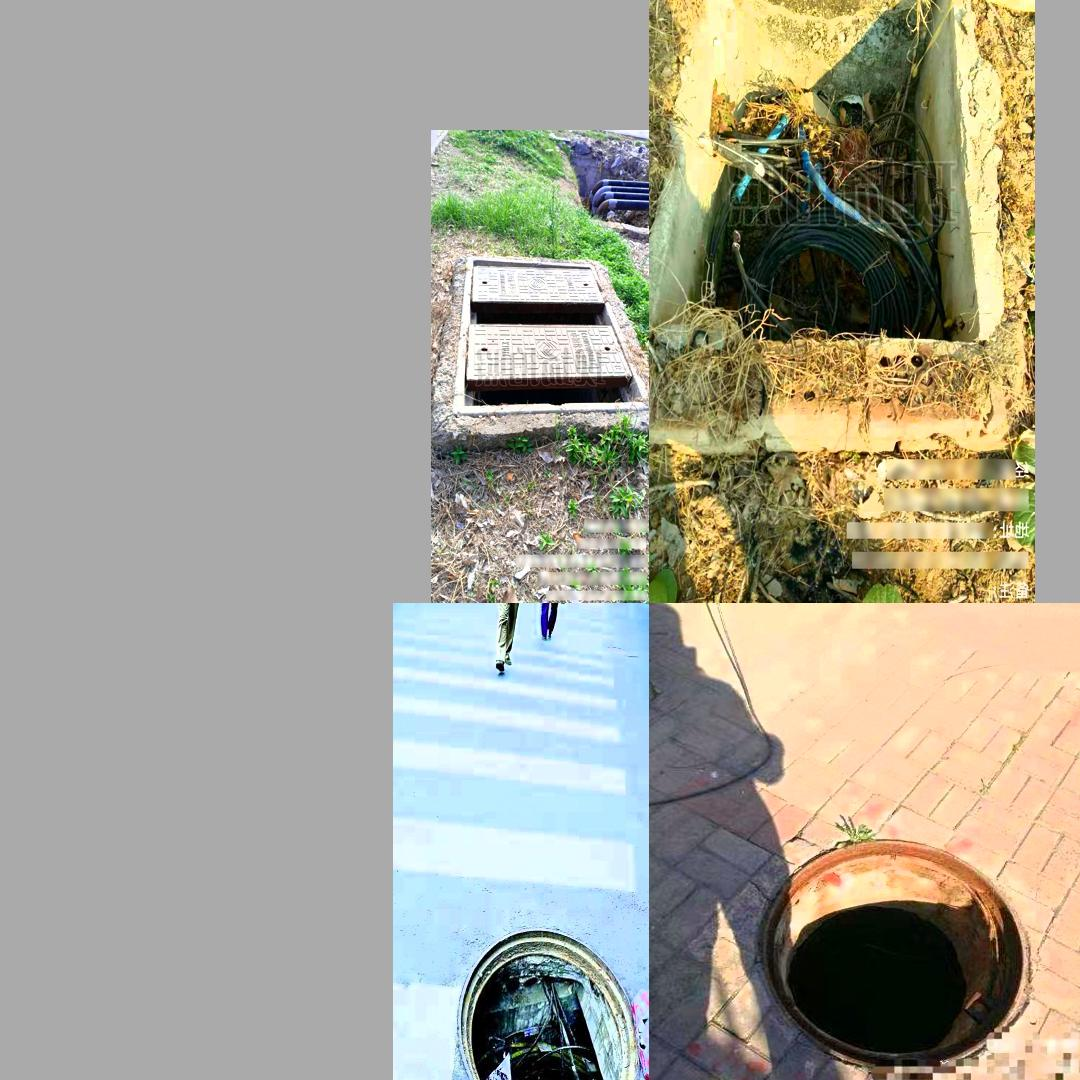lose: (649, 0, 981, 347), (757, 831, 1036, 1076), (452, 255, 648, 418), (454, 919, 636, 1080)
